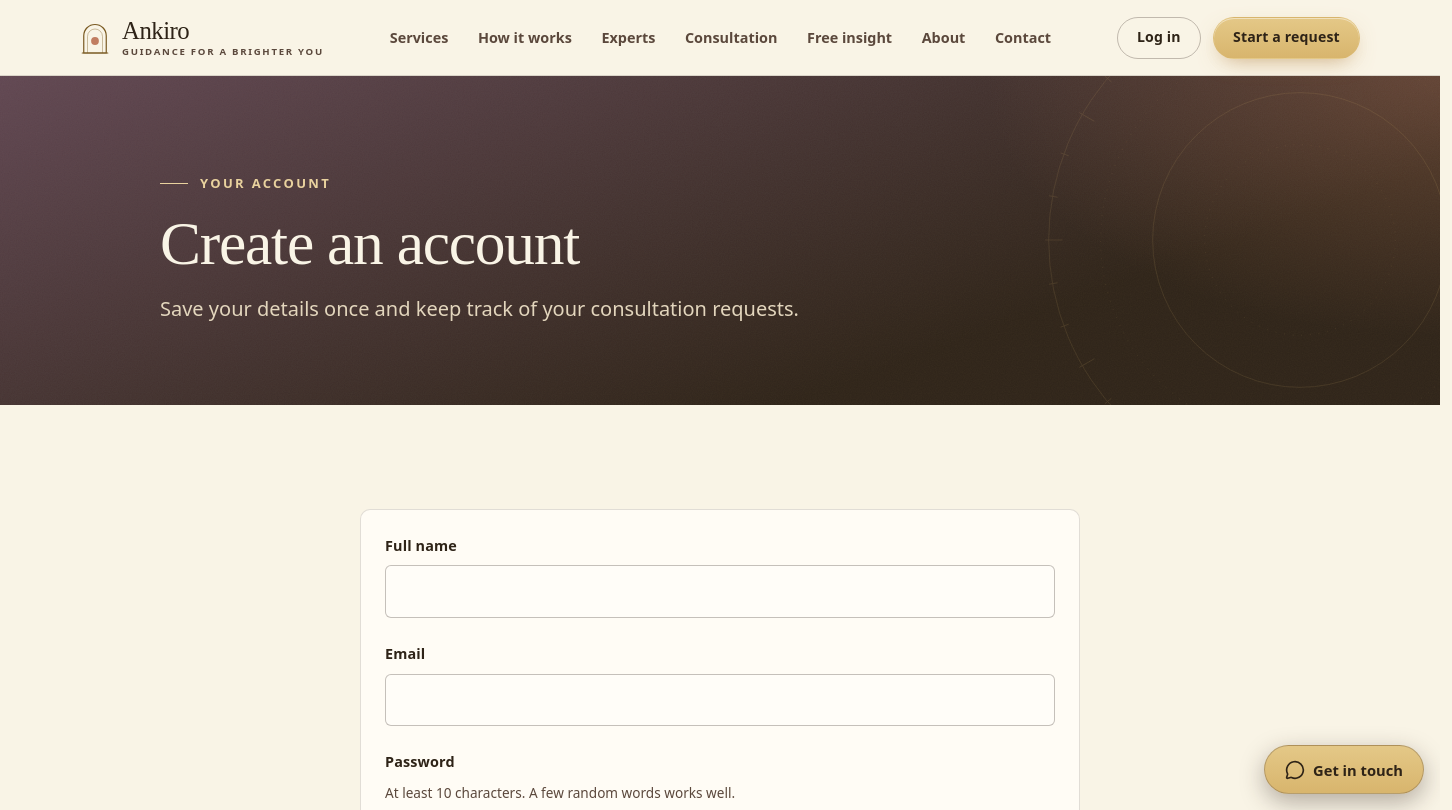
Scenario: sign-up › sends tidy values, then asks the person to check their email (and never echoes the password)
Type "  Asha Rao " into the field labelled "Full name" at (720, 592), box [385,565,1055,618]
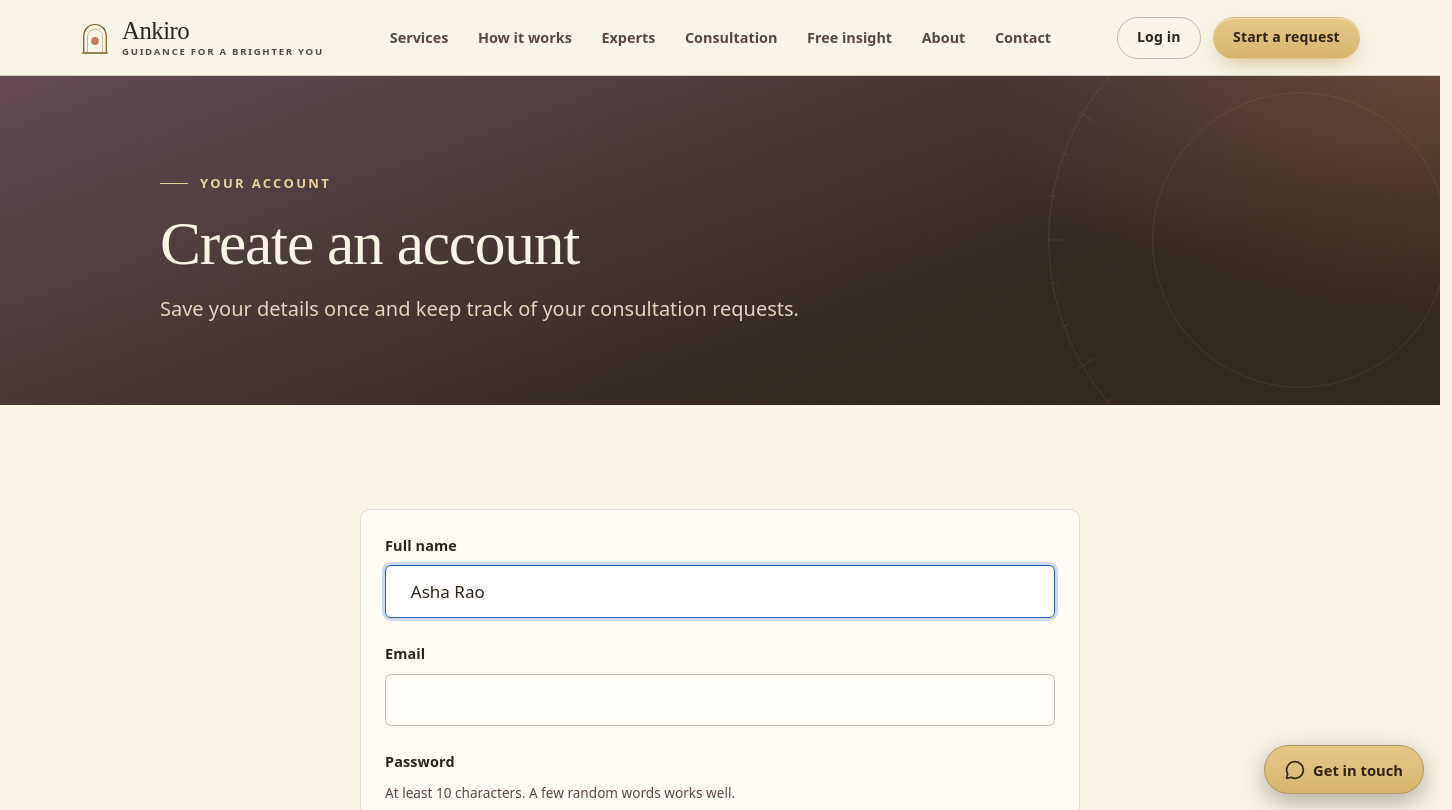
Type "Asha@Example.com " into the field labelled "Email" at (720, 700), box [385,674,1055,726]
(page scrolled)
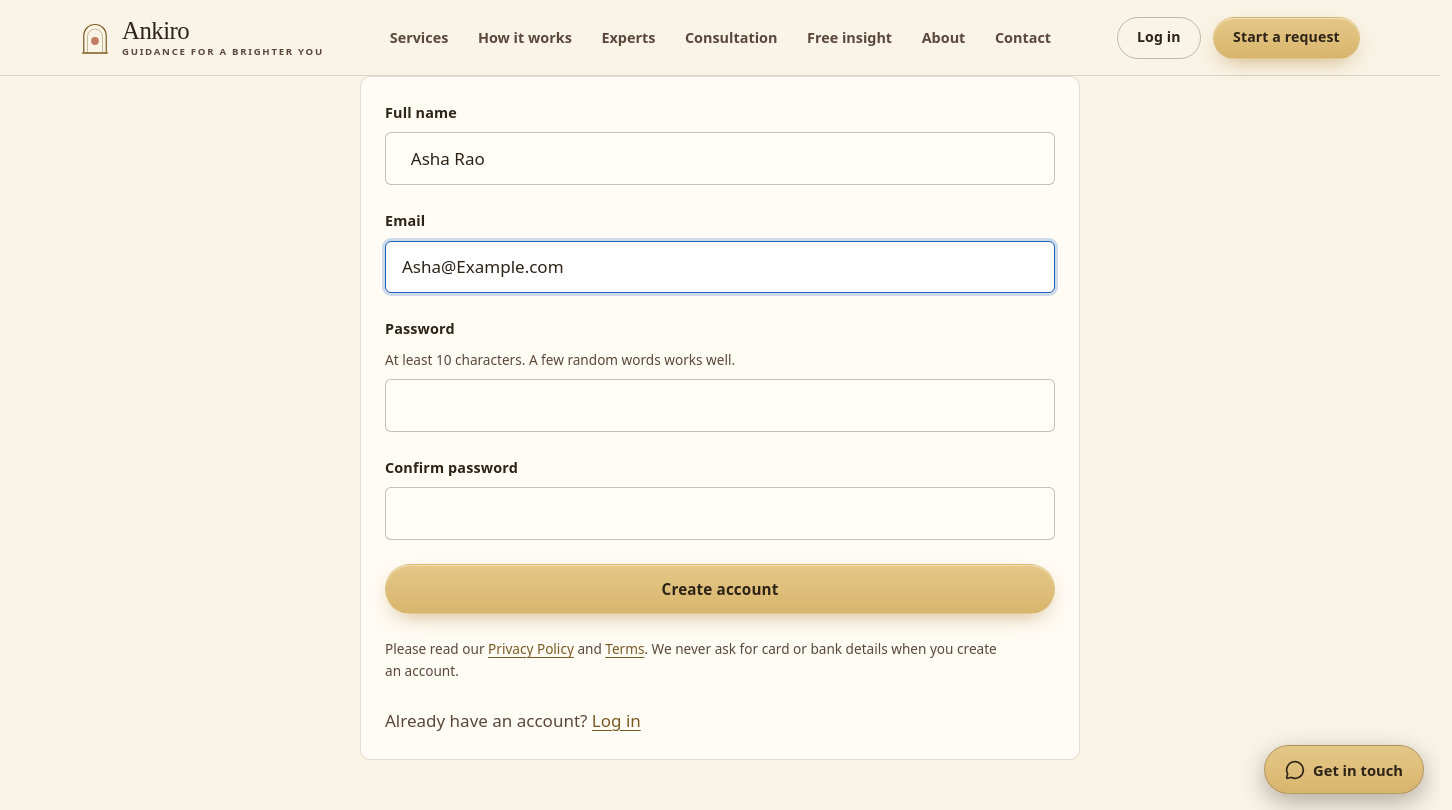
Type "blue-river-lantern" into the password field labelled "Password" at (720, 405), box [385,379,1055,432]
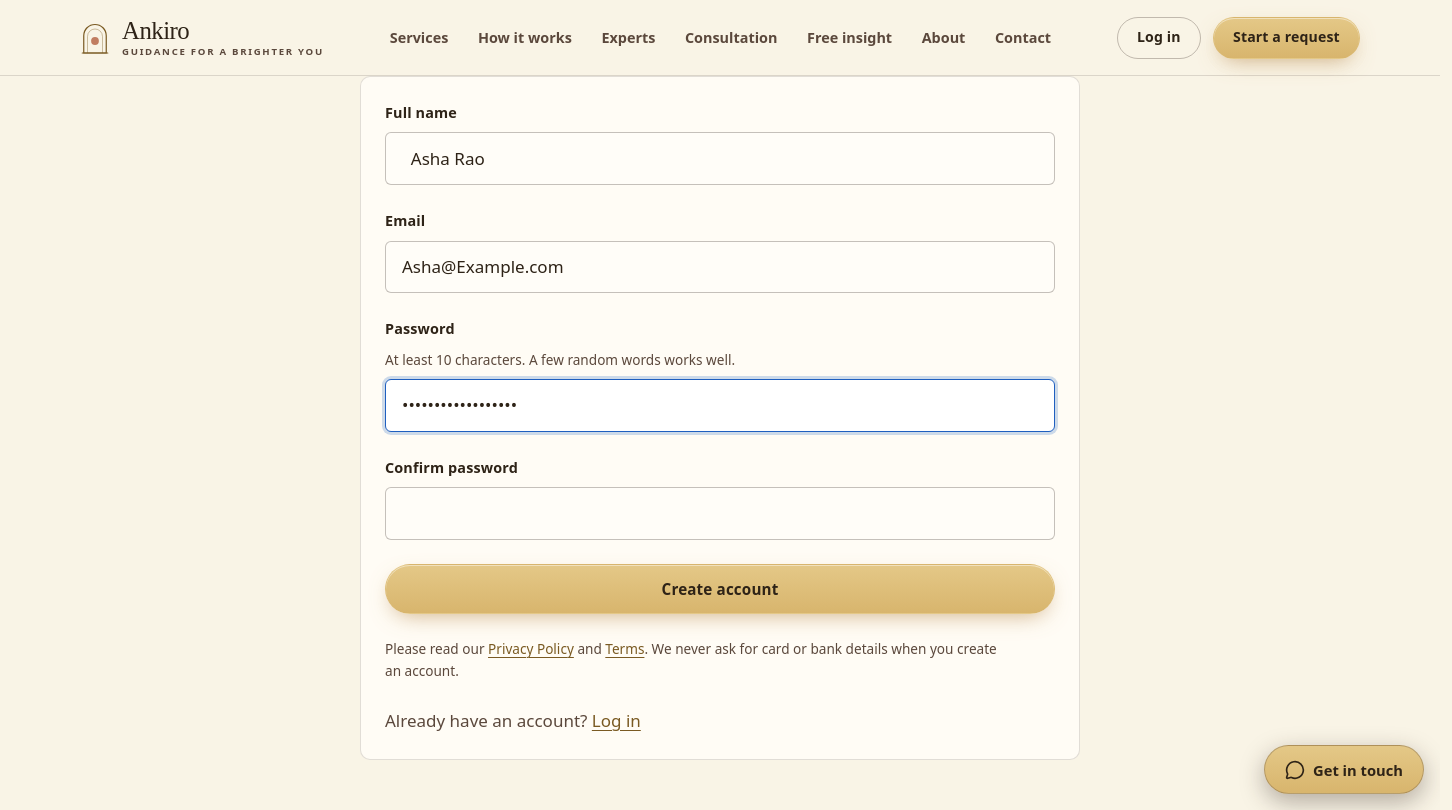
Type "blue-river-lantern" into the password field labelled "Confirm password" at (720, 514), box [385,487,1055,540]
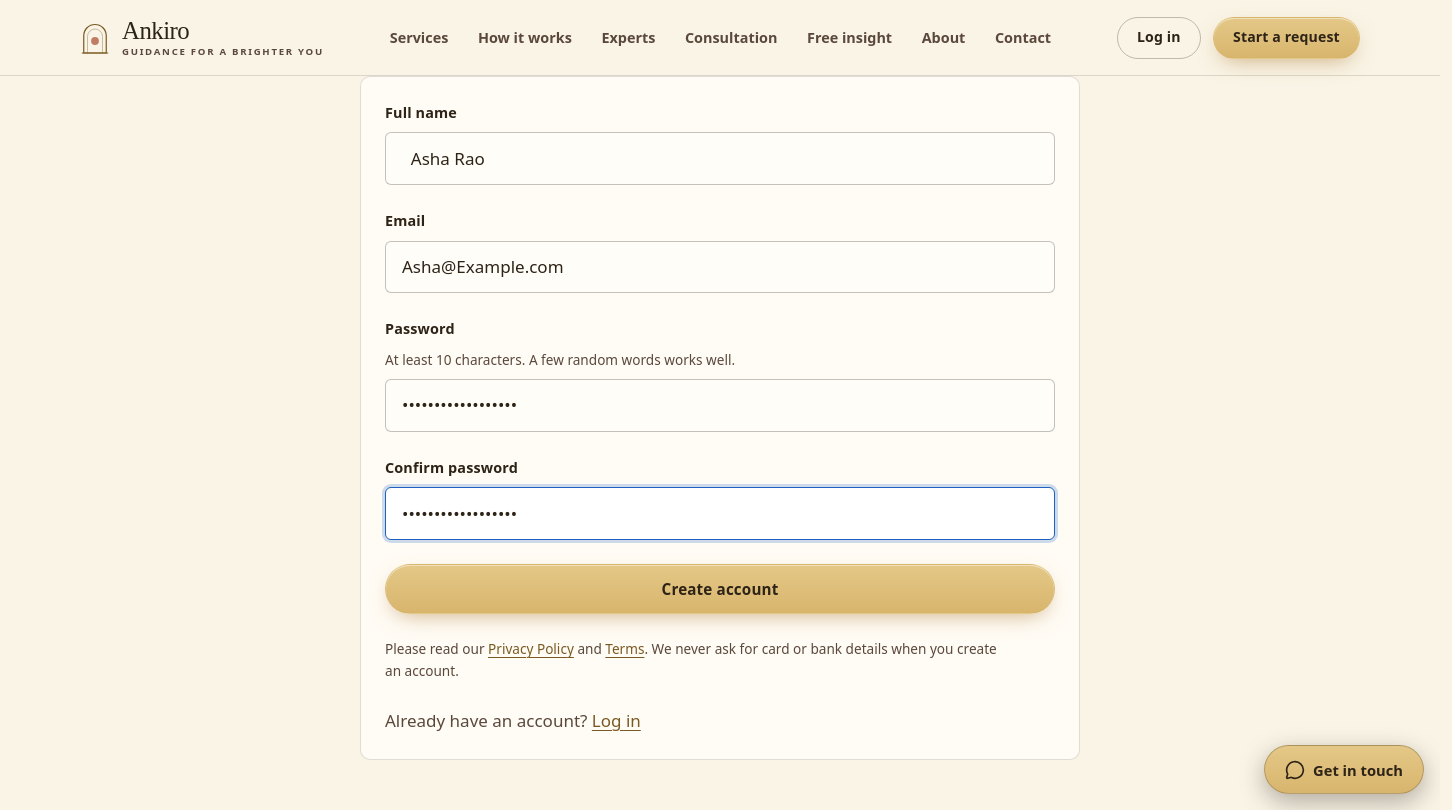
Click the button "Create account" at (720, 589), box [385,564,1055,614]
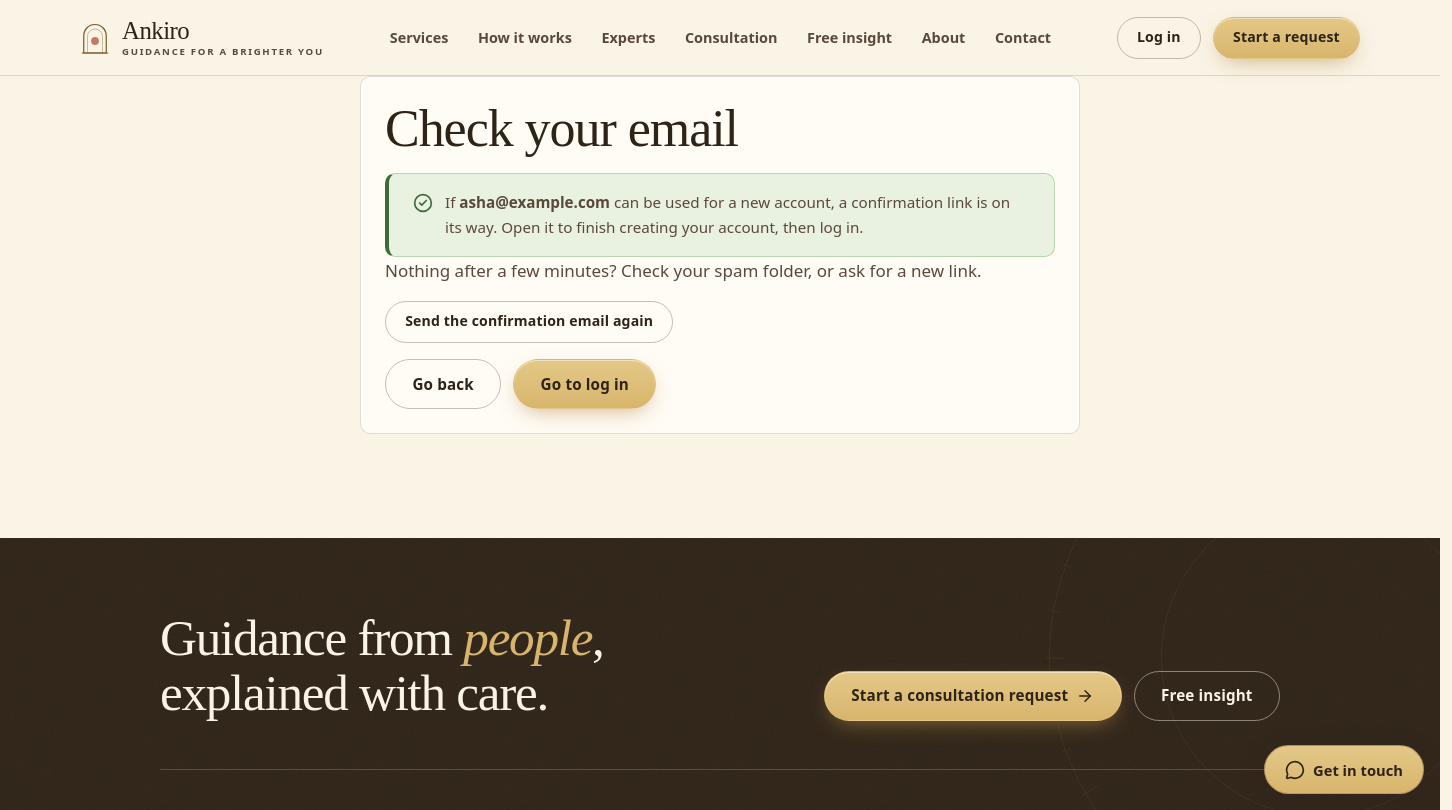
Expected: the heading "Check your email" is shown, [385,100,738,157]
Expected: the message shows "asha@example.com", [459,192,610,212]
Expected: the password field is gone
